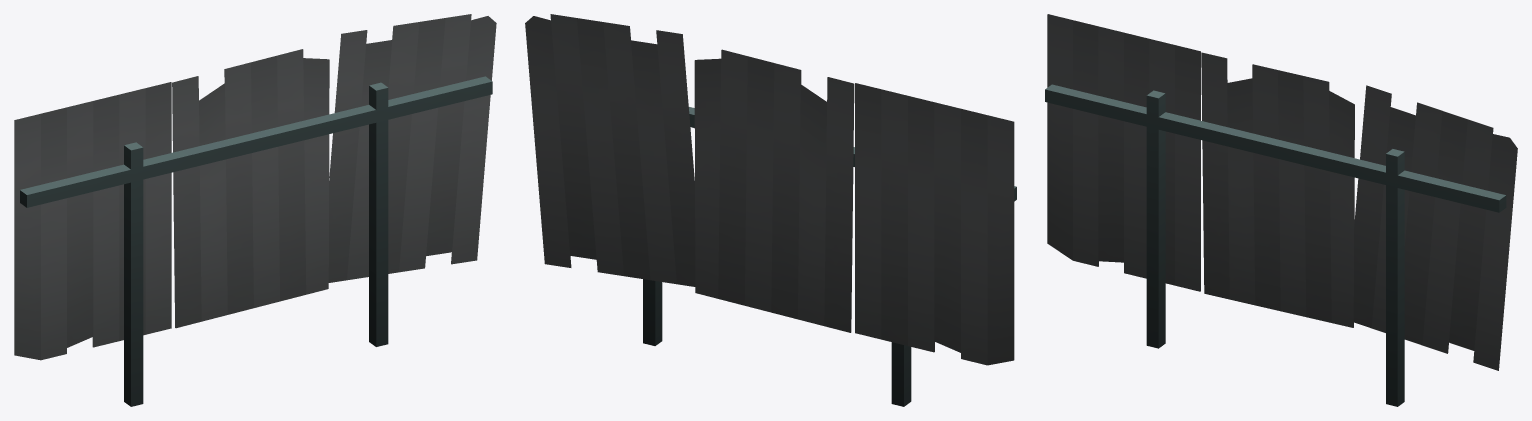
Rendered from ti_metal_fence_1a.glb.
3 renders of one model, left to right at view 1: azimuth 30°, elevation 25°; view 2: azimuth 150°, elevation 25°; view 3: azimuth 330°, elevation 25°, orthographic. The views are drawn at different scales.
Parts seen in each view (by area): view 1: Metal_Fence_1A; view 2: Metal_Fence_1A; view 3: Metal_Fence_1A.
Part boxes in pixels (box(x1,y1,x2,y2)): Metal_Fence_1A: box(14, 14, 496, 406); Metal_Fence_1A: box(525, 14, 1016, 406); Metal_Fence_1A: box(1045, 14, 1517, 406).
Bounding box in the file's own units: 3.93 × 2.45 × 0.1086.
1 material, 1 textured.
